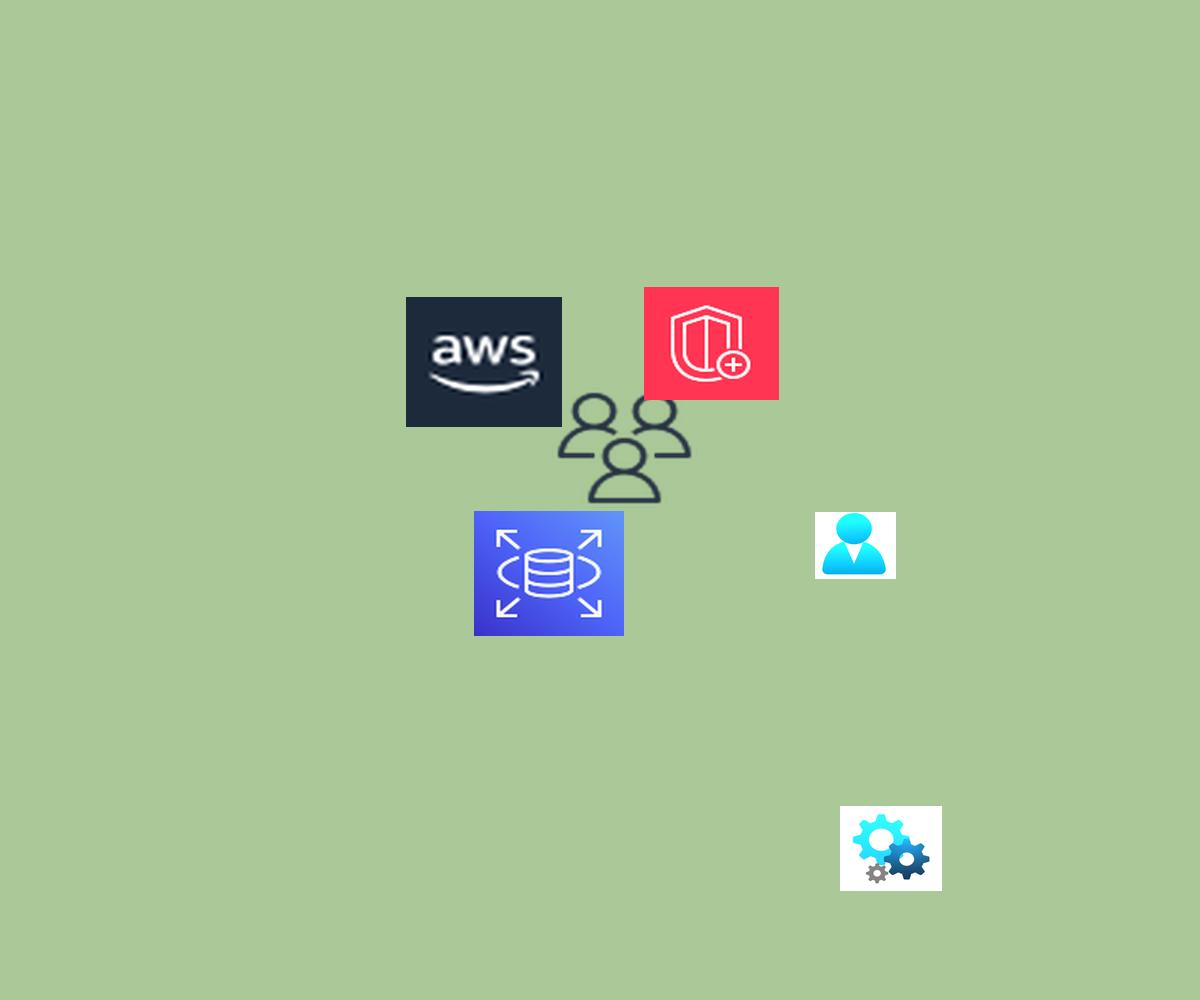AWS-Cloud-logo: (406, 297, 562, 427)
AWS-RDS: (474, 511, 624, 636)
AWS-Res_Users: (552, 388, 697, 508)
AWS-Shield: (644, 287, 779, 400)
Azure_api: (840, 806, 942, 891)
Azure_users: (815, 512, 896, 579)
